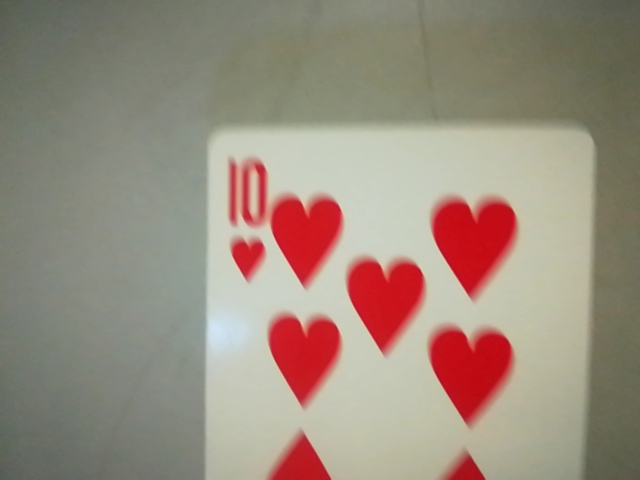hx 10: (211, 148, 274, 287)
